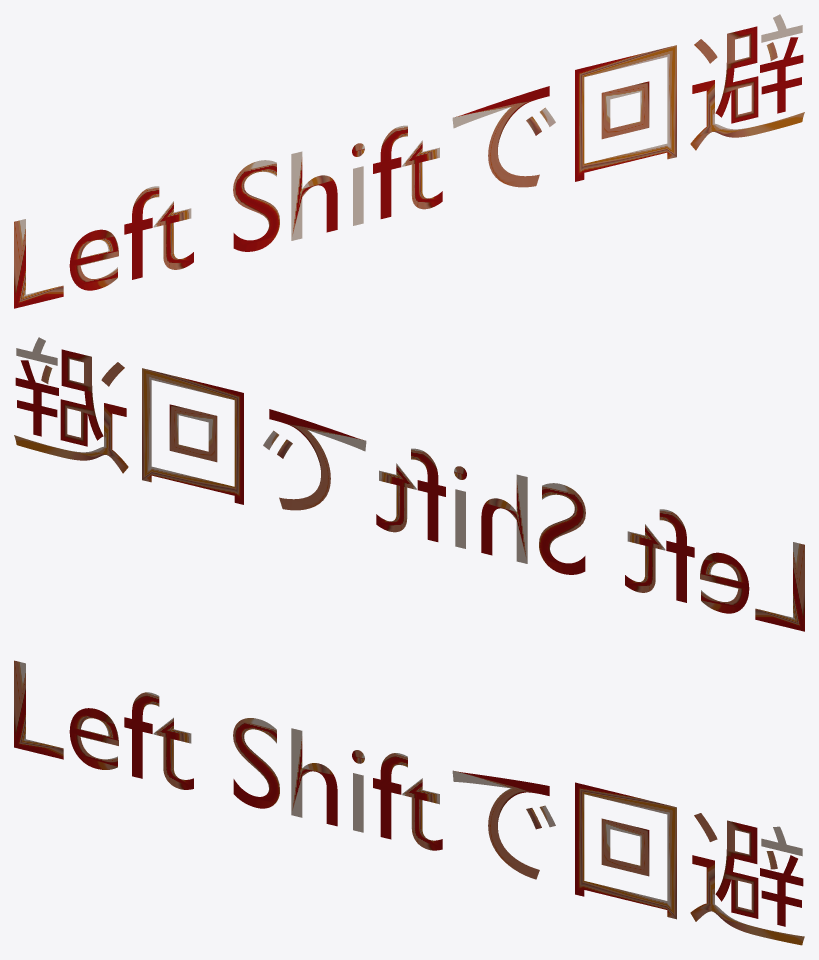
File: LeftShift.obj
3 views of the same model, one above another, from view 1: azimuth 30°, elevation 25°; view 2: azimuth 150°, elevation 25°; view 3: azimuth 330°, elevation 25° (orthographic).
Visible parts, largest first — view 1: テキスト; view 2: テキスト; view 3: テキスト.
Part boxes in pixels (x1,y1,x2,y2): テキスト: [14, 14, 804, 308]; テキスト: [14, 337, 804, 631]; テキスト: [14, 660, 804, 945].
Bounding box in the file's own units: 6.48 × 0.923 × 0.
1 material, 1 textured.
